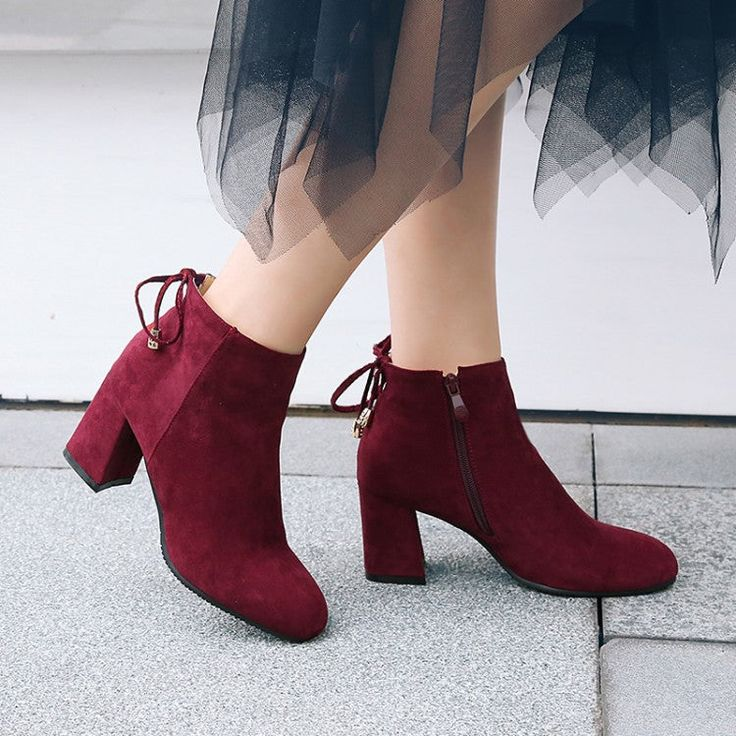gamuza: (66, 270, 677, 641)
